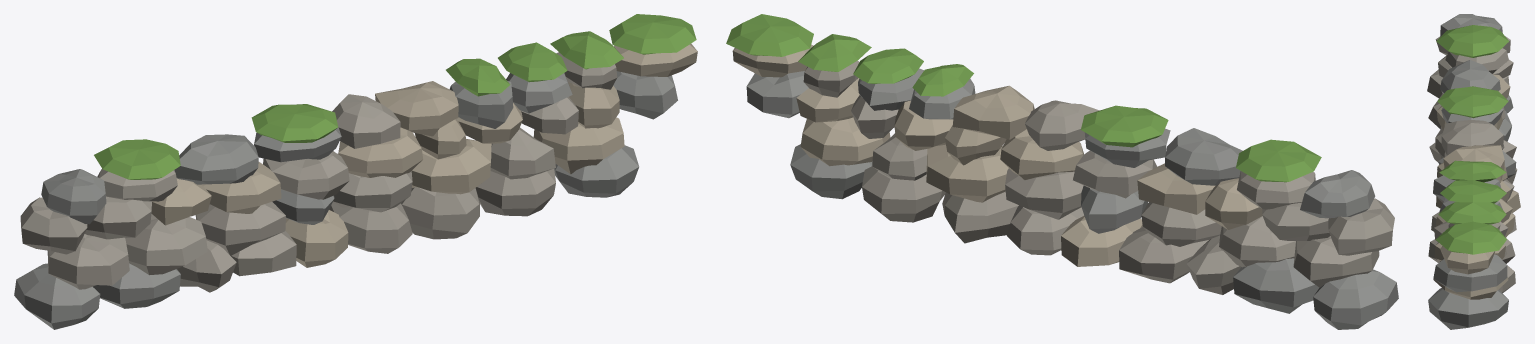
File: stone_wall.glb
3 renders of one model, left to right at view 1: azimuth 30°, elevation 25°; view 2: azimuth 150°, elevation 25°; view 3: azimuth 270°, elevation 25°, orthographic. The views are drawn at different scales.
Visible parts, largest first — view 1: stone_wall; view 2: stone_wall; view 3: stone_wall.
Part boxes in pixels (x1,y1,x2,y2): stone_wall: (14, 14, 697, 329); stone_wall: (726, 14, 1398, 329); stone_wall: (1427, 14, 1520, 329).
Size of what is drawn, in the model's own units: 3.47 by 0.8032 by 0.5325.
